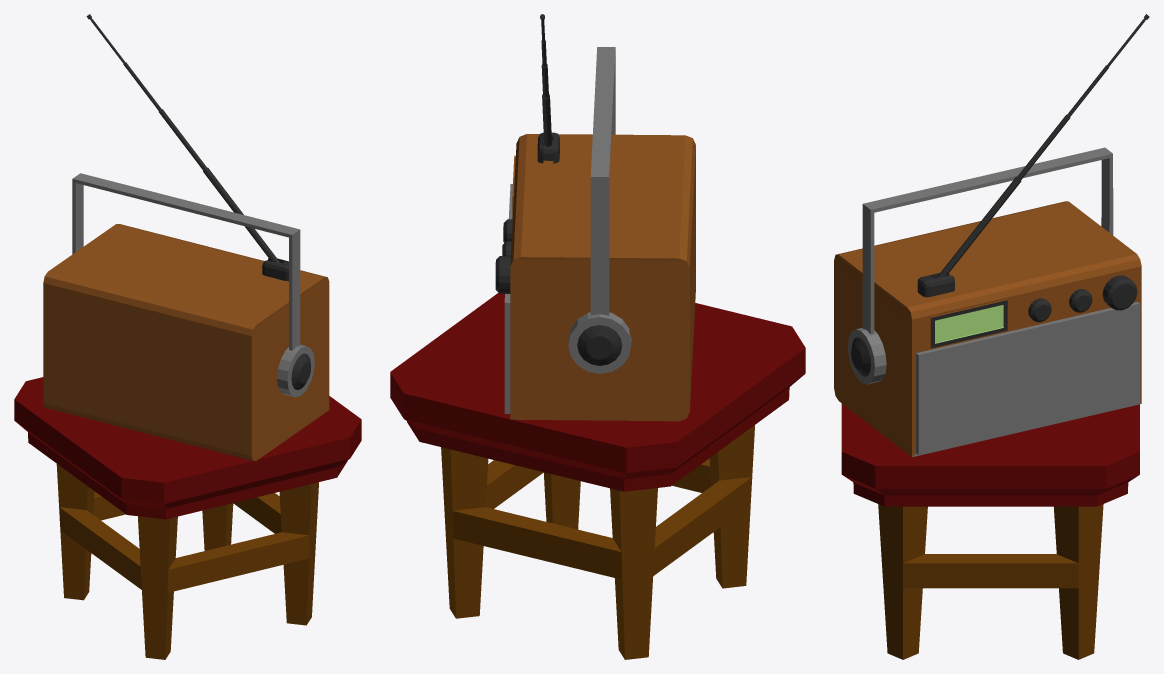
File: mini radio.fbx
3 renders of one model, left to right at view 1: azimuth 30°, elevation 25°; view 2: azimuth 150°, elevation 25°; view 3: azimuth 270°, elevation 25°, orthographic. The views are drawn at different scales.
Visible parts, largest first — view 1: Cylinder.002; view 2: Cylinder.002; view 3: Cylinder.002.
Part boxes in pixels (box(x1,y1,x2,y2)): Cylinder.002: box(14, 14, 361, 659); Cylinder.002: box(390, 14, 805, 659); Cylinder.002: box(834, 14, 1149, 659).
Size of the model in its own units: 42.3 by 92.11 by 44.79.
